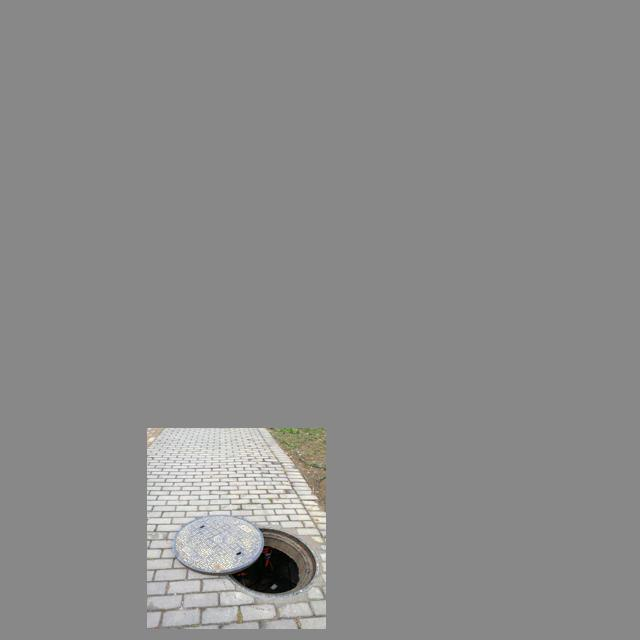uncovered: (174, 518, 320, 594)
